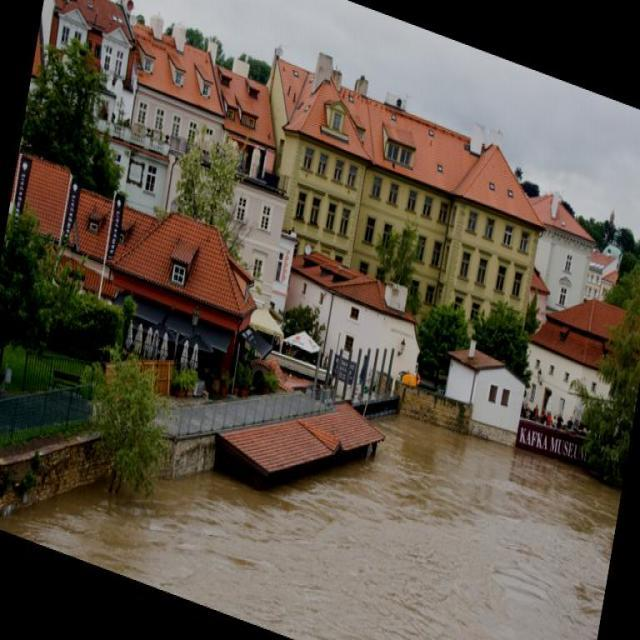flood: (26, 273, 623, 639)
